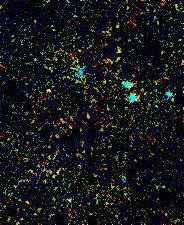star: (33, 76, 63, 106)
